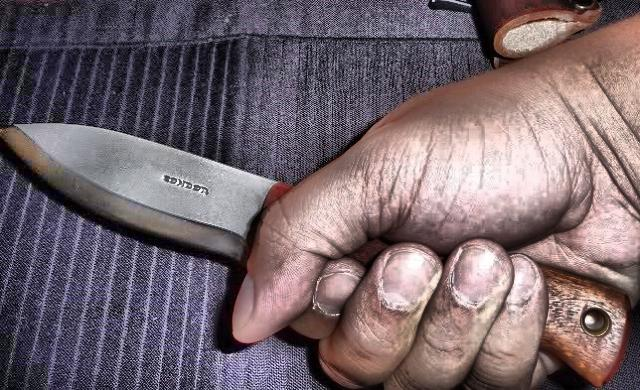knife: (9, 110, 472, 338)
